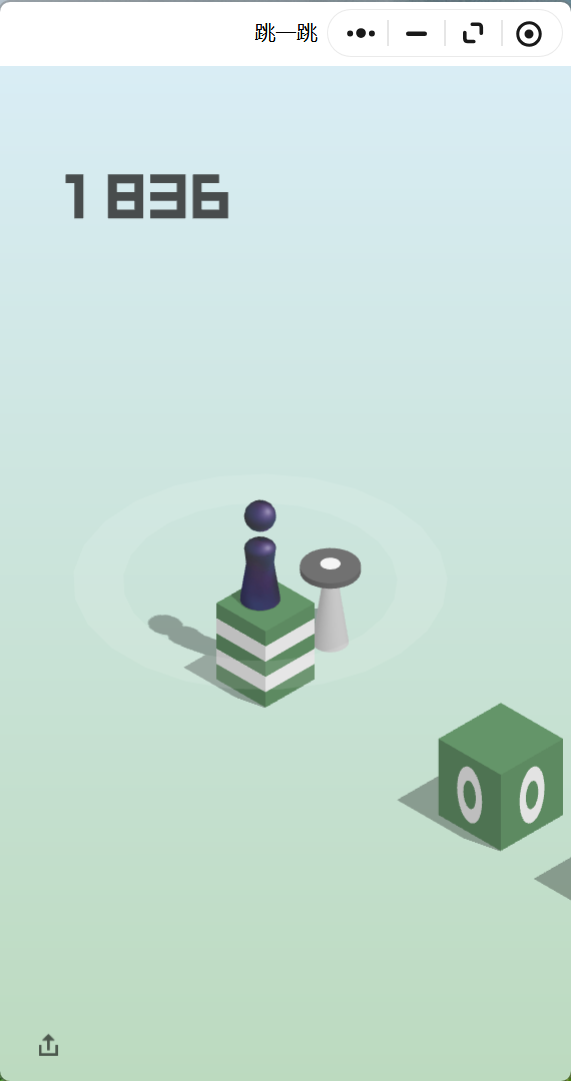piece: (243, 500, 276, 606)
target: (300, 548, 361, 583)
